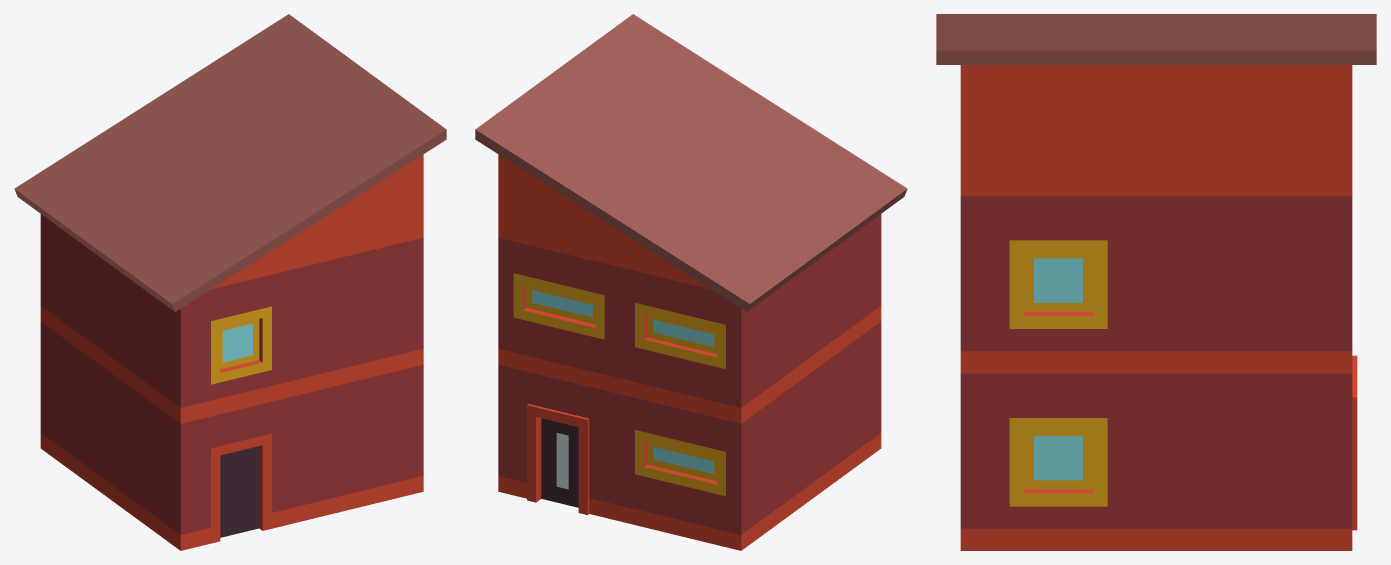
Rendered from LumberLevel1.fbx.
3 renders of one model, left to right at view 1: azimuth 30°, elevation 25°; view 2: azimuth 150°, elevation 25°; view 3: azimuth 270°, elevation 25°, orthographic. The views are drawn at different scales.
Parts seen in each view (by area): view 1: LumberLevel1; view 2: LumberLevel1; view 3: LumberLevel1.
Boxes of the visible parts, x1=… form: LumberLevel1: x1=14, y1=14, x2=446, y2=550; LumberLevel1: x1=475, y1=14, x2=907, y2=550; LumberLevel1: x1=936, y1=14, x2=1376, y2=550.
Bounding box in the file's own units: 90.42 × 115 × 90.
Materials: 1 (1 with a texture image).
